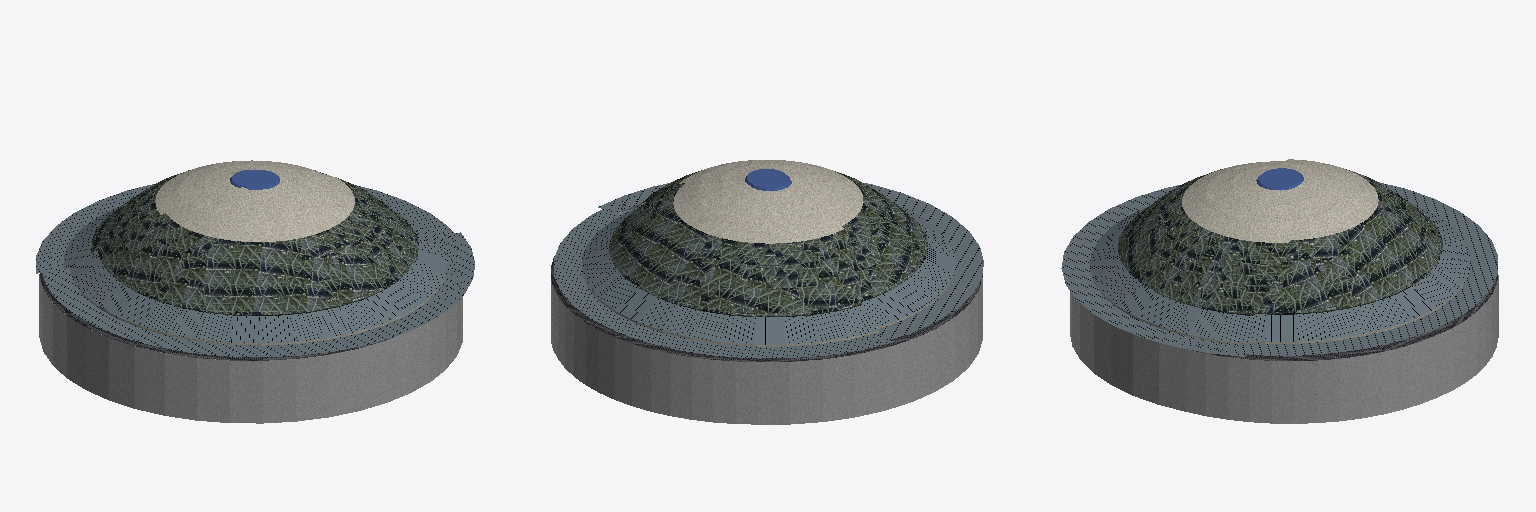
3 renders of one model, left to right at view 1: azimuth 30°, elevation 25°; view 2: azimuth 150°, elevation 25°; view 3: azimuth 270°, elevation 25°, orthographic.
Visible parts, largest first — view 1: Kyocera_Dome_Main-Material6, Kyocera_Dome_g_80083-dome_roof, Kyocera_Dome_g_80083-Black_Lines_2, Kyocera_Dome_g_80083-Formica_Graystone, Kyocera_Dome_g_73809-Black_Lines_2, Kyocera_Dome_g_73809-Formica_Graystone, Kyocera_Dome_g_73809-dome_roof, Kyocera_Dome_Main-staging2; view 2: Kyocera_Dome_Main-Material6, Kyocera_Dome_g_73809-dome_roof, Kyocera_Dome_g_73809-Black_Lines_2, Kyocera_Dome_g_80083-Black_Lines_2, Kyocera_Dome_g_73809-Formica_Graystone, Kyocera_Dome_g_80083-dome_roof, Kyocera_Dome_g_80083-Formica_Graystone, Kyocera_Dome_Main-staging2; view 3: Kyocera_Dome_Main-Material6, Kyocera_Dome_g_73809-Black_Lines_2, Kyocera_Dome_g_73809-dome_roof, Kyocera_Dome_g_80083-dome_roof, Kyocera_Dome_g_80083-Black_Lines_2, Kyocera_Dome_g_80083-Formica_Graystone, Kyocera_Dome_g_73809-Formica_Graystone, Kyocera_Dome_Main-staging2.
Part boxes in pixels (x1,y1,x2,y2): Kyocera_Dome_Main-Material6: (39, 276, 462, 423); Kyocera_Dome_g_80083-dome_roof: (97, 178, 418, 315); Kyocera_Dome_g_80083-Black_Lines_2: (42, 227, 474, 356); Kyocera_Dome_g_80083-Formica_Graystone: (69, 170, 446, 345); Kyocera_Dome_g_73809-Black_Lines_2: (36, 184, 466, 303); Kyocera_Dome_g_73809-Formica_Graystone: (155, 160, 319, 214); Kyocera_Dome_g_73809-dome_roof: (91, 170, 326, 254); Kyocera_Dome_Main-staging2: (39, 273, 393, 360); Kyocera_Dome_Main-Material6: (551, 278, 982, 424); Kyocera_Dome_g_73809-dome_roof: (609, 183, 861, 316); Kyocera_Dome_g_73809-Black_Lines_2: (554, 188, 892, 357); Kyocera_Dome_g_80083-Black_Lines_2: (598, 183, 983, 346); Kyocera_Dome_g_73809-Formica_Graystone: (582, 179, 878, 346); Kyocera_Dome_g_80083-dome_roof: (641, 170, 927, 301); Kyocera_Dome_g_80083-Formica_Graystone: (619, 160, 955, 328); Kyocera_Dome_Main-staging2: (551, 256, 982, 361); Kyocera_Dome_Main-Material6: (1070, 275, 1498, 423); Kyocera_Dome_g_73809-Black_Lines_2: (1106, 182, 1497, 355); Kyocera_Dome_g_73809-dome_roof: (1255, 169, 1442, 314); Kyocera_Dome_g_80083-dome_roof: (1118, 169, 1288, 315); Kyocera_Dome_g_80083-Black_Lines_2: (1061, 185, 1404, 356); Kyocera_Dome_g_80083-Formica_Graystone: (1090, 161, 1292, 344); Kyocera_Dome_g_73809-Formica_Graystone: (1250, 159, 1469, 343); Kyocera_Dome_Main-staging2: (1187, 274, 1497, 360).
Size of the model in its own units: 180 by 71.25 by 182.
50 materials, 37 textured.